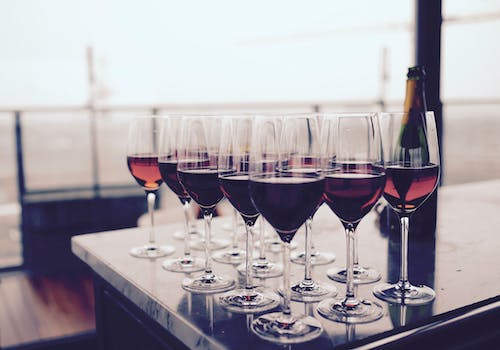alcohol: (247, 115, 327, 345), (315, 114, 387, 325), (372, 111, 441, 307), (217, 115, 281, 314), (176, 115, 237, 295), (157, 115, 209, 272), (125, 115, 176, 259), (392, 65, 431, 164)
